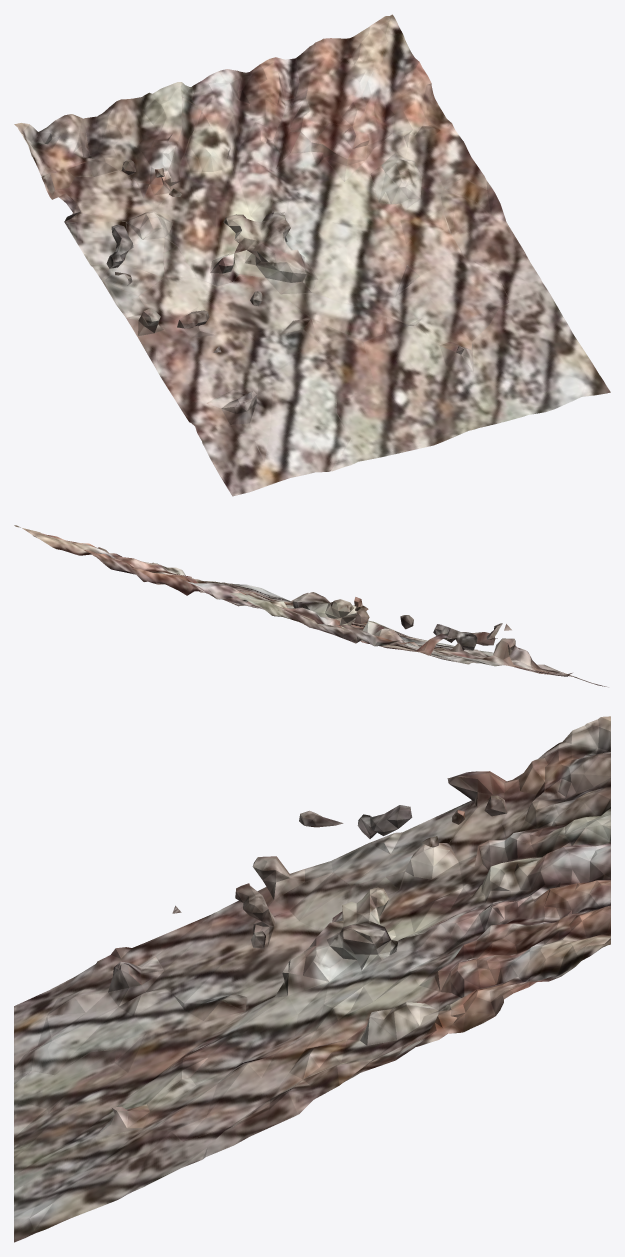
3 renders of one model, top to bottom at view 1: azimuth 30°, elevation 25°; view 2: azimuth 150°, elevation 25°; view 3: azimuth 270°, elevation 25°, orthographic. The views are drawn at different scales.
Size of the model in its own units: 1.67 by 0.9718 by 1.67.
3 materials, 3 textured.
